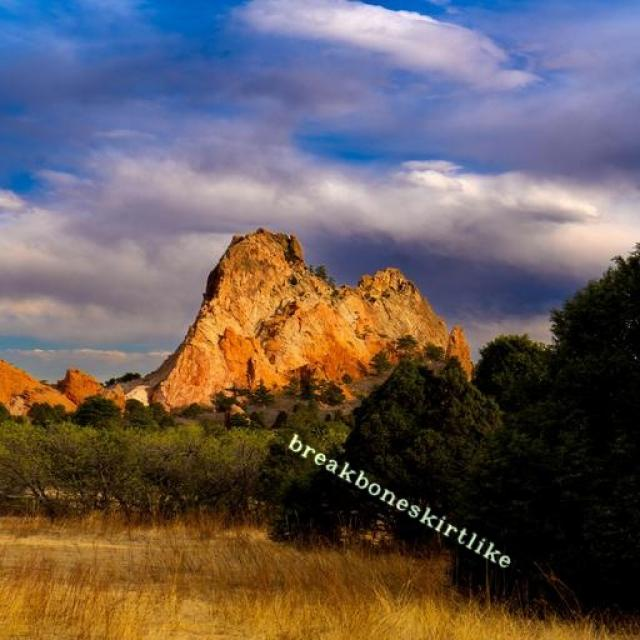watermark: (279, 429, 522, 572)
